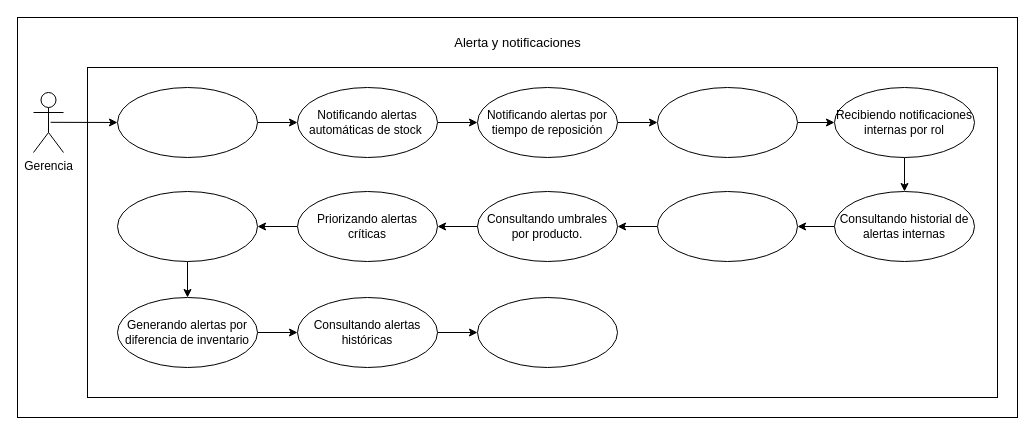
The diagram is 1035 pixels wide and 435 high, and some of its shapes have lost their labels. Here are the shapes that lost their labels. From the top down, the centre of each, then its label:
At point (187, 122): "Estableciendo umbral de stock mínimo y maximo".
At point (727, 122): "Visualizando alertas por tiempo de reposición".
At point (187, 226): "Centralizando alertas de dashboard".
At point (727, 226): "Ajustando umbrales de alerta".
At point (547, 332): "Registrando resolución de alerta".
